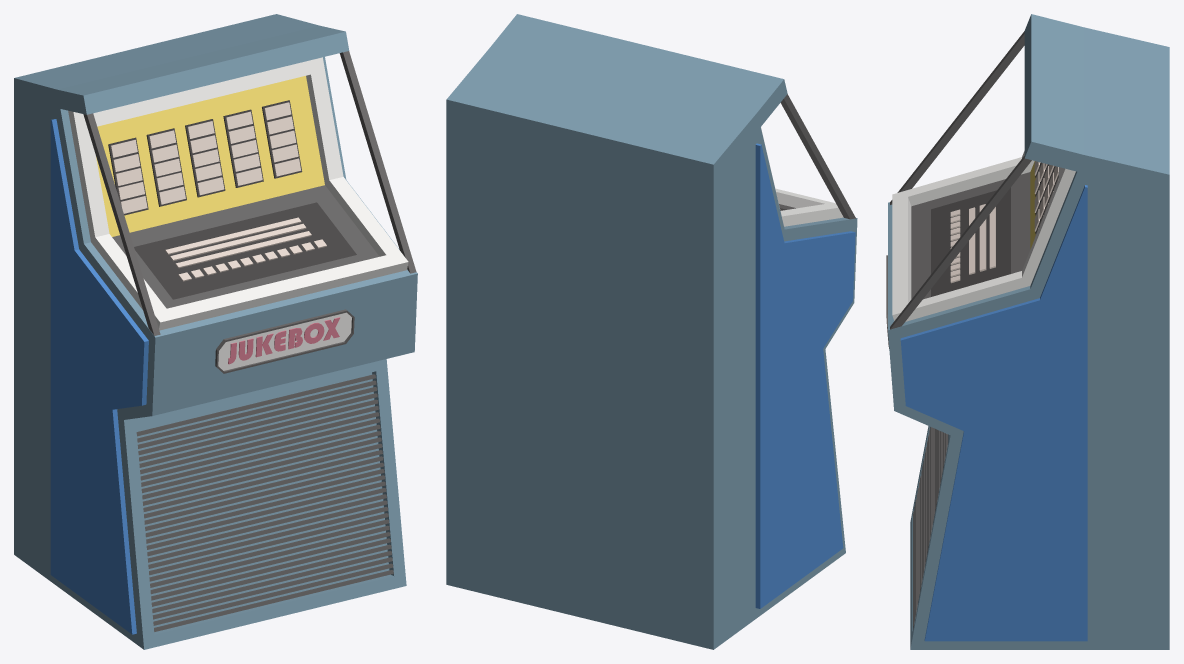
The model's file is Jukebox.fbx.
The picture shows the model from 3 angles, left to right: view 1: azimuth 30°, elevation 25°; view 2: azimuth 150°, elevation 25°; view 3: azimuth 270°, elevation 25°; orthographic projection. The views are drawn at different scales.
Visible parts, largest first — view 1: Jukebox; view 2: Jukebox; view 3: Jukebox.
Boxes of the visible parts, x1,y1,x2,y2 form: Jukebox: (14, 14, 417, 649); Jukebox: (446, 14, 857, 649); Jukebox: (886, 14, 1169, 649).
Size of the model in its own units: 97.1 by 88 by 174.
